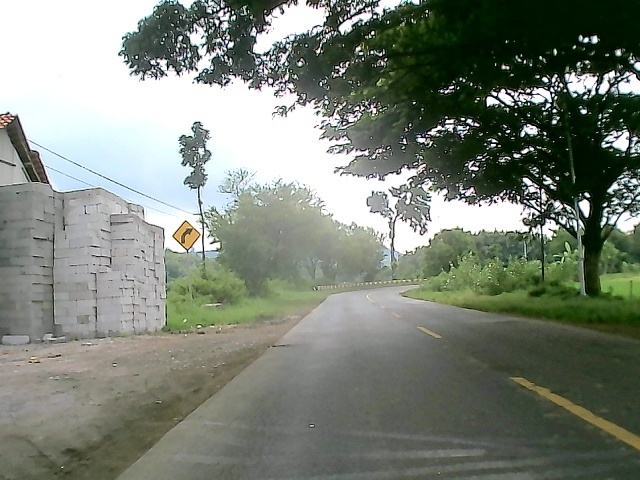Tikungan ke kanan: (171, 218, 202, 254)
